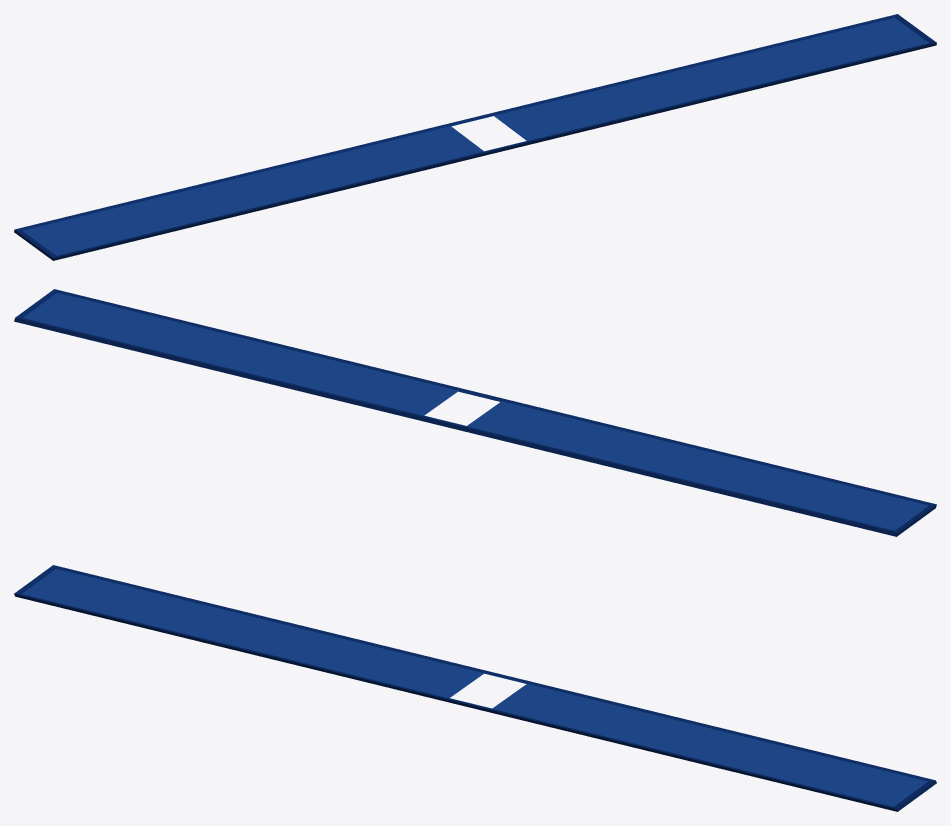
The model's file is Level_1.fbx.
3 views of the same model, one above another, from view 1: azimuth 30°, elevation 25°; view 2: azimuth 150°, elevation 25°; view 3: azimuth 330°, elevation 25° (orthographic).
Visible parts, largest first — view 1: Level_1; view 2: Level_1; view 3: Level_1.
Part boxes in pixels (x1=…): Level_1: x1=14, y1=14, x2=936, y2=260; Level_1: x1=14, y1=289, x2=936, y2=536; Level_1: x1=14, y1=565, x2=936, y2=811.
Size of the model in its own units: 77228 by 279 by 6062.
Materials: 1 (1 with a texture image).
